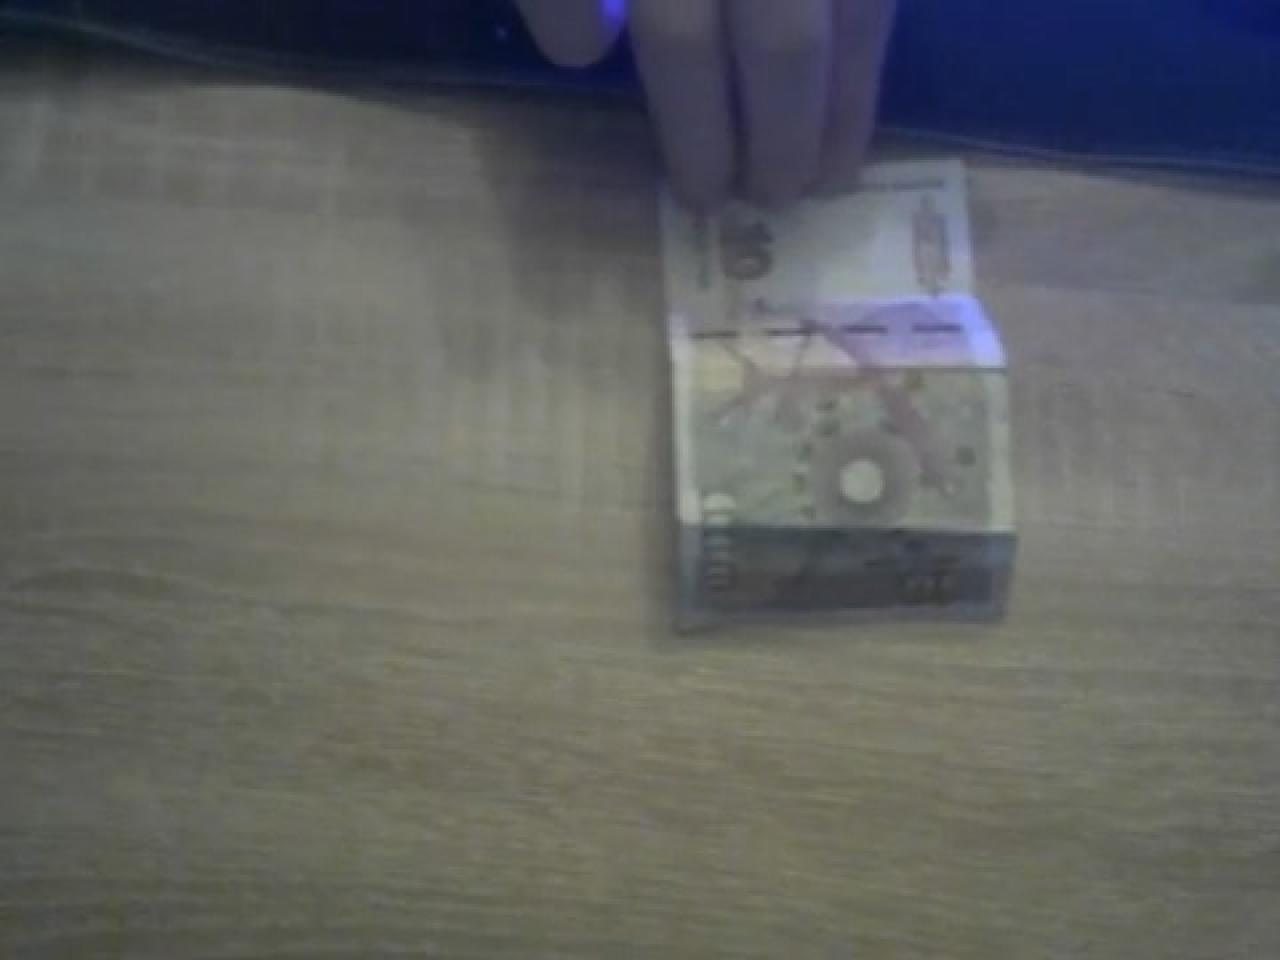10leva: (669, 163, 1021, 635)
